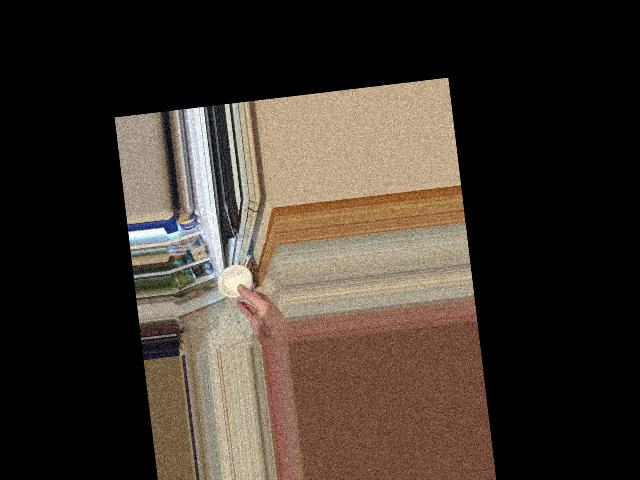cotage: (218, 260, 255, 305)
